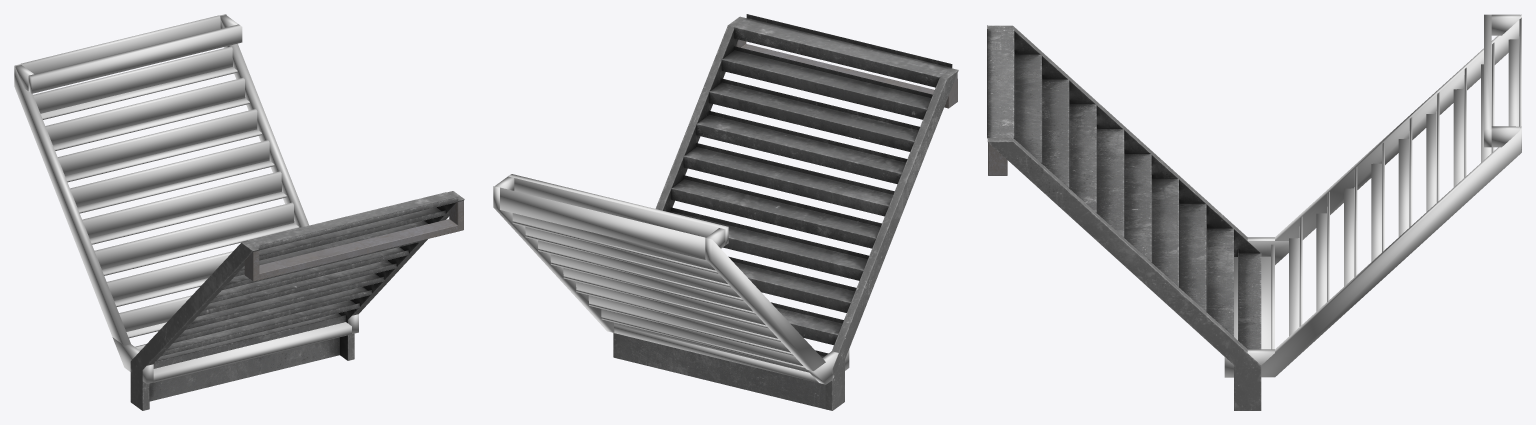
Rendered from SM_Stairs_Metal.fbx.
The picture shows the model from 3 angles, left to right: view 1: azimuth 30°, elevation 25°; view 2: azimuth 150°, elevation 25°; view 3: azimuth 270°, elevation 25°; orthographic projection. The views are drawn at different scales.
Parts seen in each view (by area): view 1: SM_Stairs_Metal_ConvexHulls, SM_Stairs_Metal; view 2: SM_Stairs_Metal, SM_Stairs_Metal_ConvexHulls; view 3: SM_Stairs_Metal, SM_Stairs_Metal_ConvexHulls.
Part boxes in pixels (x1,y1,x2,y2): SM_Stairs_Metal_ConvexHulls: (14, 14, 358, 383); SM_Stairs_Metal: (130, 191, 464, 410); SM_Stairs_Metal: (613, 14, 958, 410); SM_Stairs_Metal_ConvexHulls: (493, 174, 849, 384); SM_Stairs_Metal: (987, 25, 1261, 410); SM_Stairs_Metal_ConvexHulls: (1224, 14, 1521, 377).
Bounding box in the file's own units: 1.5 × 1.7 × 2.92.
